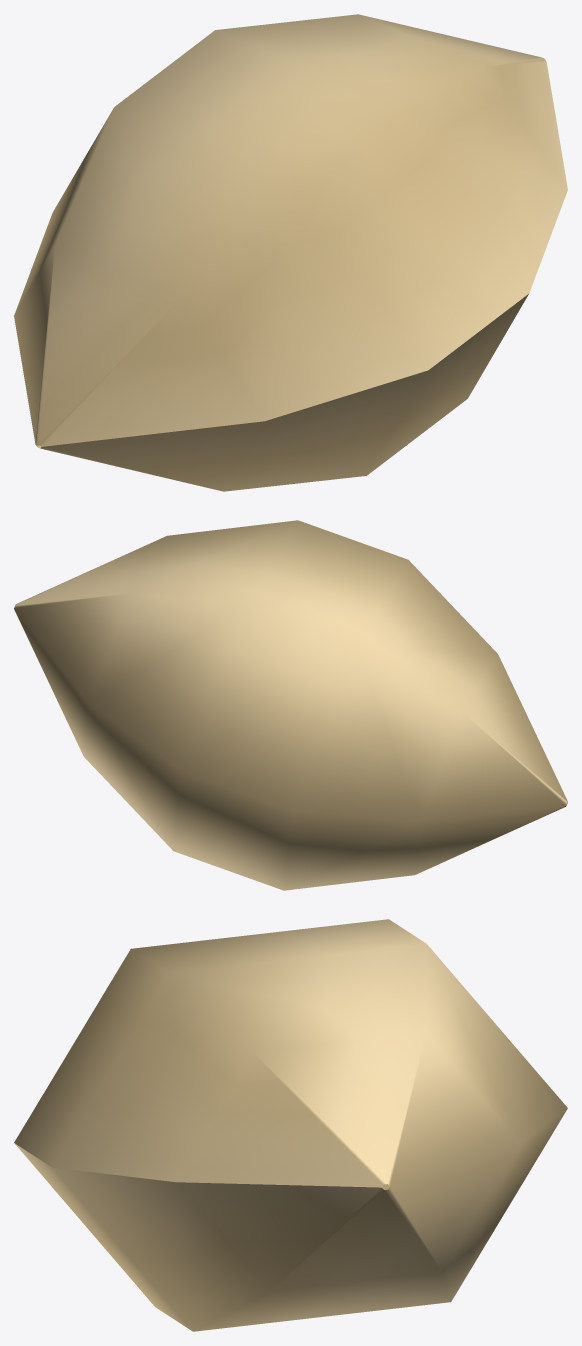
Rendered from NP_Moonflower_Seed_LOD1.fbx.
The picture shows the model from 3 angles, top to bottom: view 1: azimuth 30°, elevation 25°; view 2: azimuth 150°, elevation 25°; view 3: azimuth 270°, elevation 25°; orthographic projection. The views are drawn at different scales.
Visible parts, largest first — view 1: NP_Moonflower_Seed_LOD1; view 2: NP_Moonflower_Seed_LOD1; view 3: NP_Moonflower_Seed_LOD1.
Part boxes in pixels (bbox=[...]): NP_Moonflower_Seed_LOD1: bbox=[14, 14, 567, 491]; NP_Moonflower_Seed_LOD1: bbox=[14, 520, 567, 890]; NP_Moonflower_Seed_LOD1: bbox=[14, 919, 567, 1331].
Bounding box in the file's own units: 9.56 × 5.34 × 7.55.
